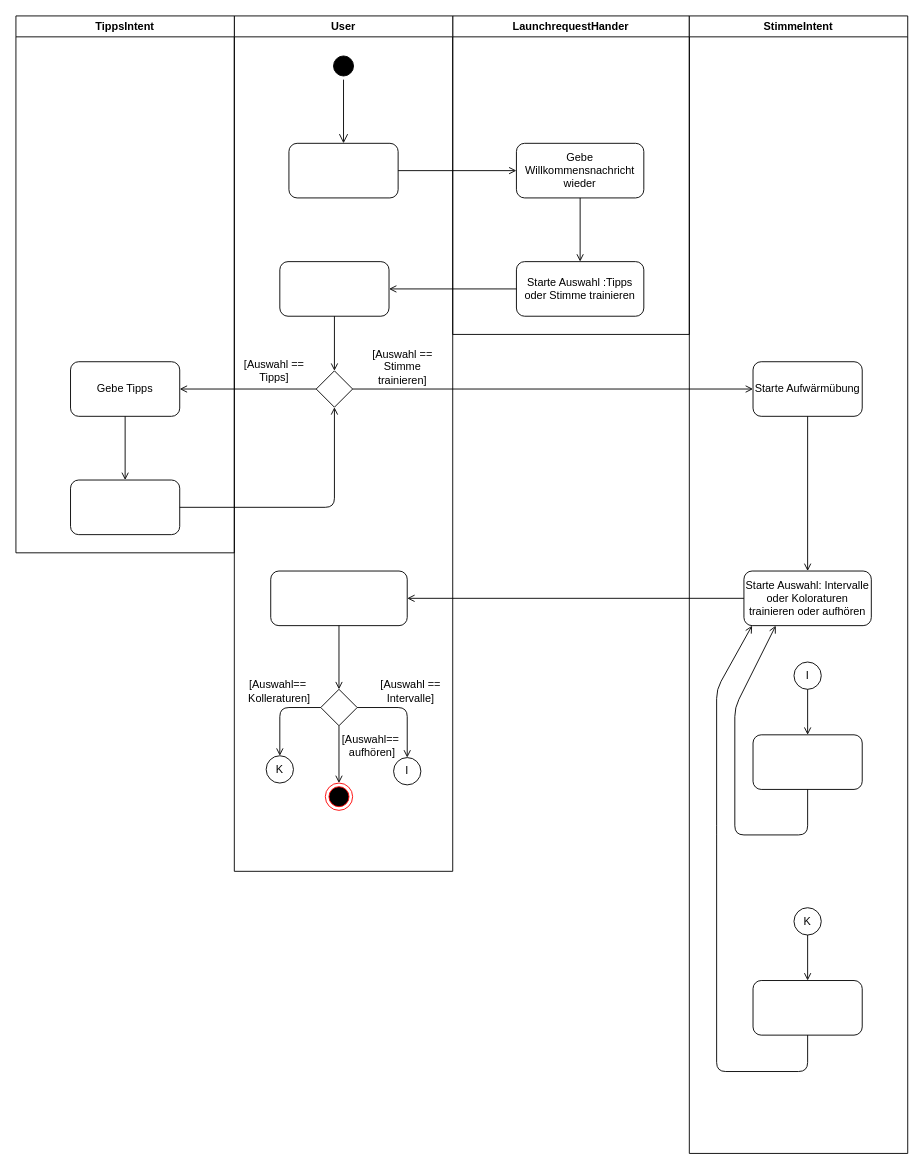
The diagram is 924 pixels wide and 1169 high, and some of its shapes have lost their labels. Each missing label, with the centre of its shape:
Starte Auswahl weiterer Tipp oder Stimme trainieren: point (125, 507)
Starte Skill: point (343, 170)
Training Intervalle: point (807, 761)
Training Kolleraturen: point (807, 1007)
Tätige Auswahl: Intervalle oder Kolleraturen trainieren oder aufhören: point (338, 598)
Tätige Auswahl: Tipps oder Stimme trainieren: point (334, 288)
